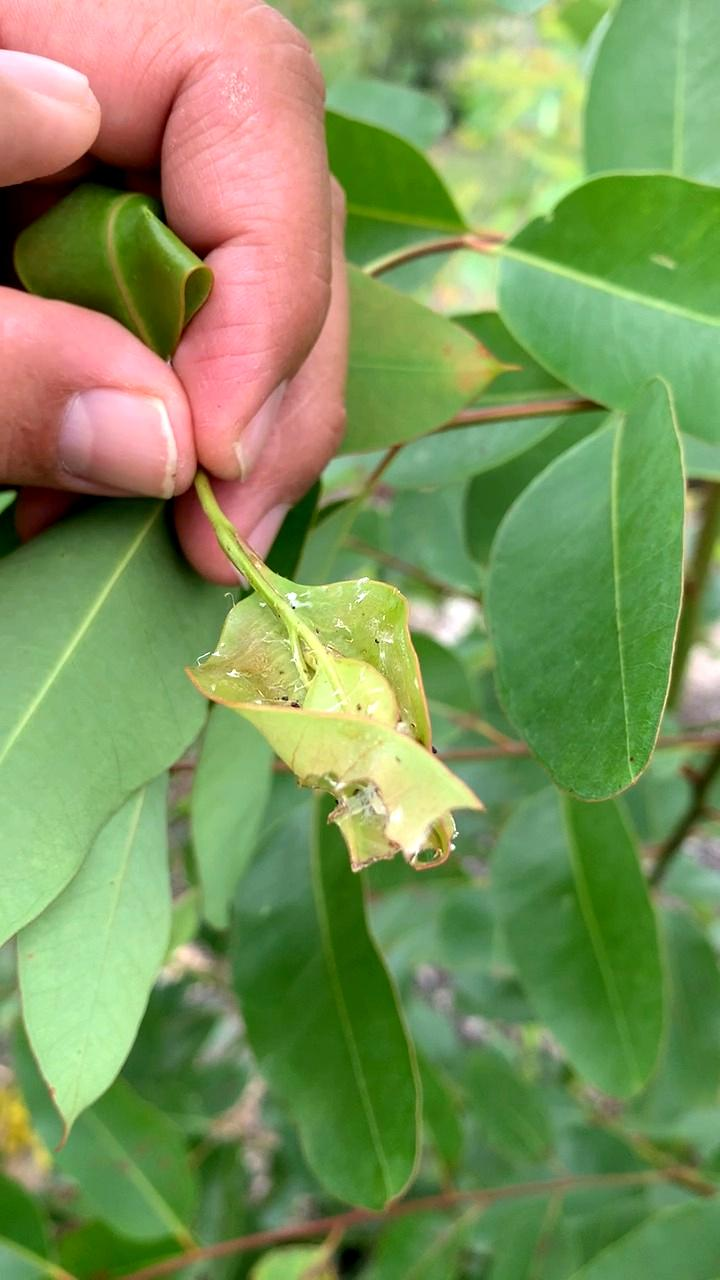Leaf Roller - Leaf: (203, 558, 499, 897)
